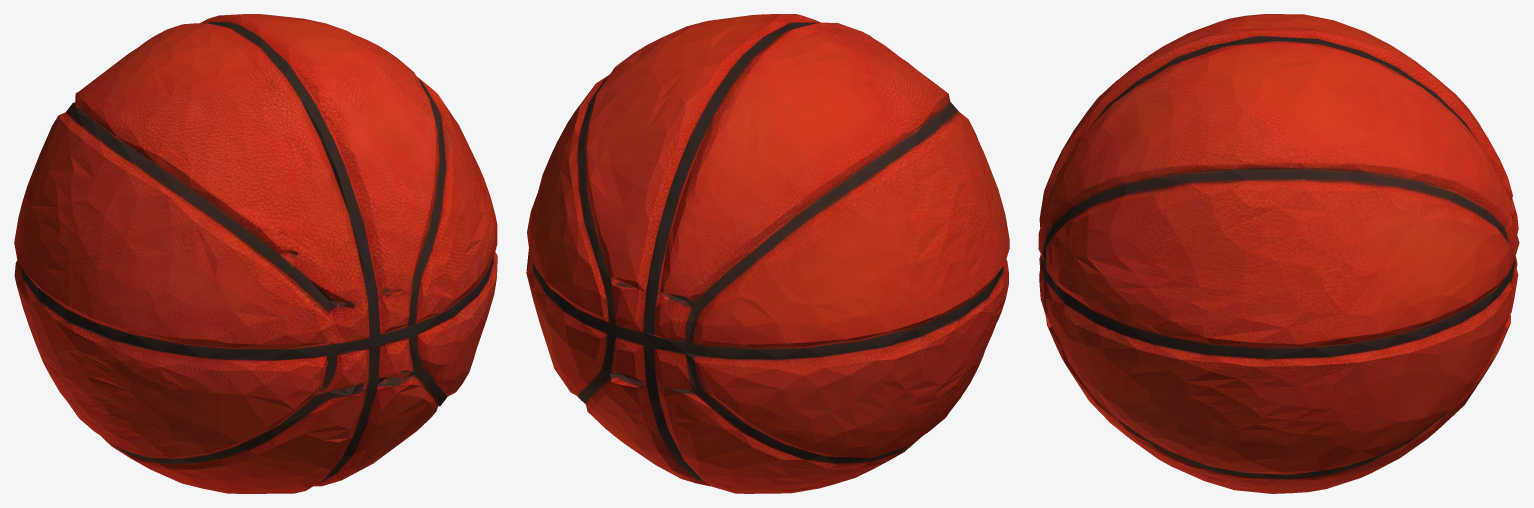
The model's file is CourtBall.obj.
The picture shows the model from 3 angles, left to right: view 1: azimuth 30°, elevation 25°; view 2: azimuth 150°, elevation 25°; view 3: azimuth 270°, elevation 25°; orthographic projection.
Size of the model in its own units: 0.3996 by 0.4 by 0.4017.
1 material, 1 textured.
